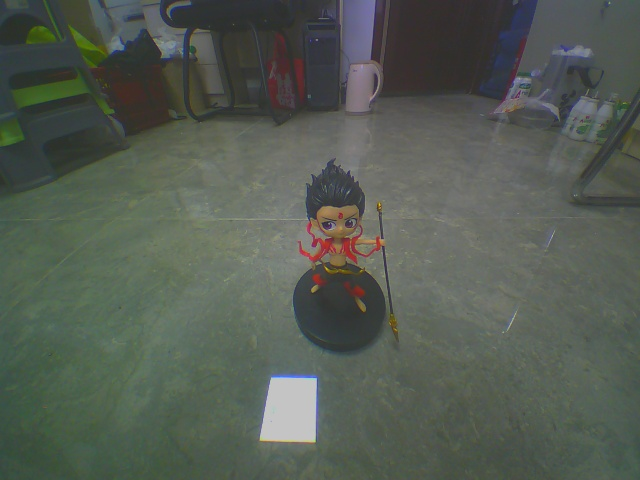Nezha: (272, 159, 435, 360)
